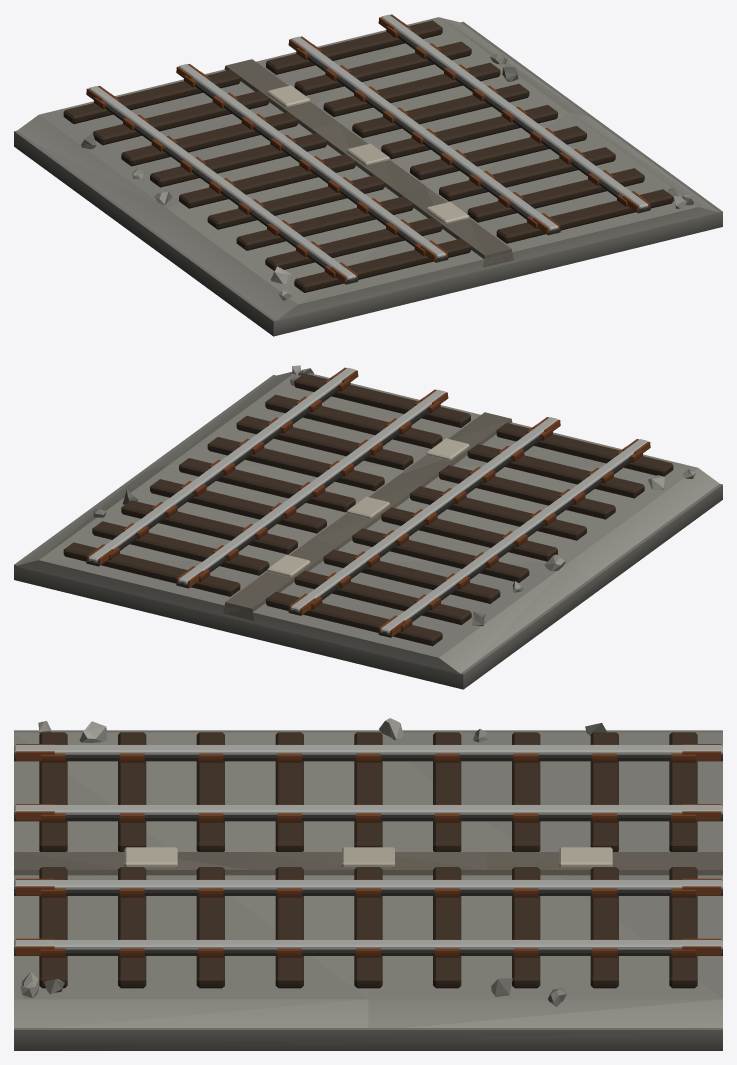
The model's file is track-double-straight-tile.glb.
3 views of the same model, one above another, from view 1: azimuth 30°, elevation 25°; view 2: azimuth 150°, elevation 25°; view 3: azimuth 270°, elevation 25° (orthographic). The views are drawn at different scales.
Visible parts, largest first — view 1: track_double_straight_tile; view 2: track_double_straight_tile; view 3: track_double_straight_tile.
Part boxes in pixels (bbox=[...]): track_double_straight_tile: bbox=[14, 14, 722, 336]; track_double_straight_tile: bbox=[14, 365, 722, 689]; track_double_straight_tile: bbox=[14, 718, 722, 1050].
Size of the model in its own units: 4 by 0.3501 by 4.
